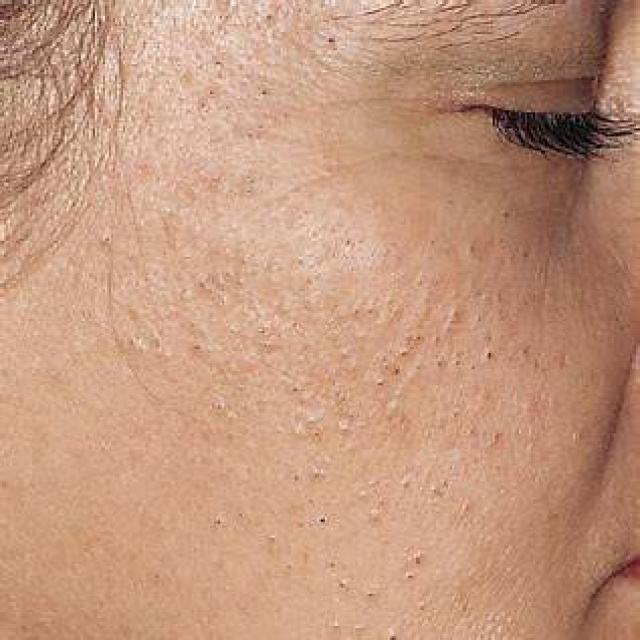blackhead: (516, 344, 536, 357), (255, 86, 272, 100), (316, 511, 329, 528), (214, 400, 226, 417), (338, 581, 352, 595), (412, 552, 424, 568), (415, 598, 427, 614), (468, 241, 480, 256), (374, 376, 386, 391), (392, 364, 403, 380), (324, 34, 336, 48), (295, 519, 307, 533), (282, 560, 294, 574), (364, 307, 378, 319), (432, 333, 446, 344), (351, 305, 362, 319), (206, 86, 218, 98), (453, 357, 465, 369), (343, 236, 355, 248), (190, 342, 203, 353), (262, 12, 276, 22), (437, 356, 448, 368), (398, 346, 409, 358), (311, 470, 322, 482), (328, 558, 338, 571), (484, 349, 493, 363), (212, 59, 224, 69), (288, 385, 300, 395), (257, 120, 267, 131), (291, 472, 302, 482), (414, 333, 424, 343), (197, 102, 207, 111), (366, 588, 375, 598), (257, 326, 266, 335), (406, 570, 414, 580), (213, 519, 223, 527), (236, 511, 244, 521), (246, 132, 253, 142), (388, 633, 396, 640)
